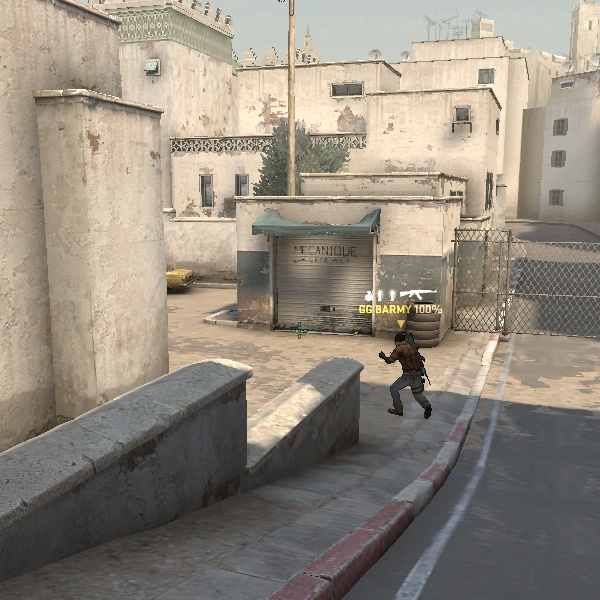t_body: (374, 328, 433, 421)
